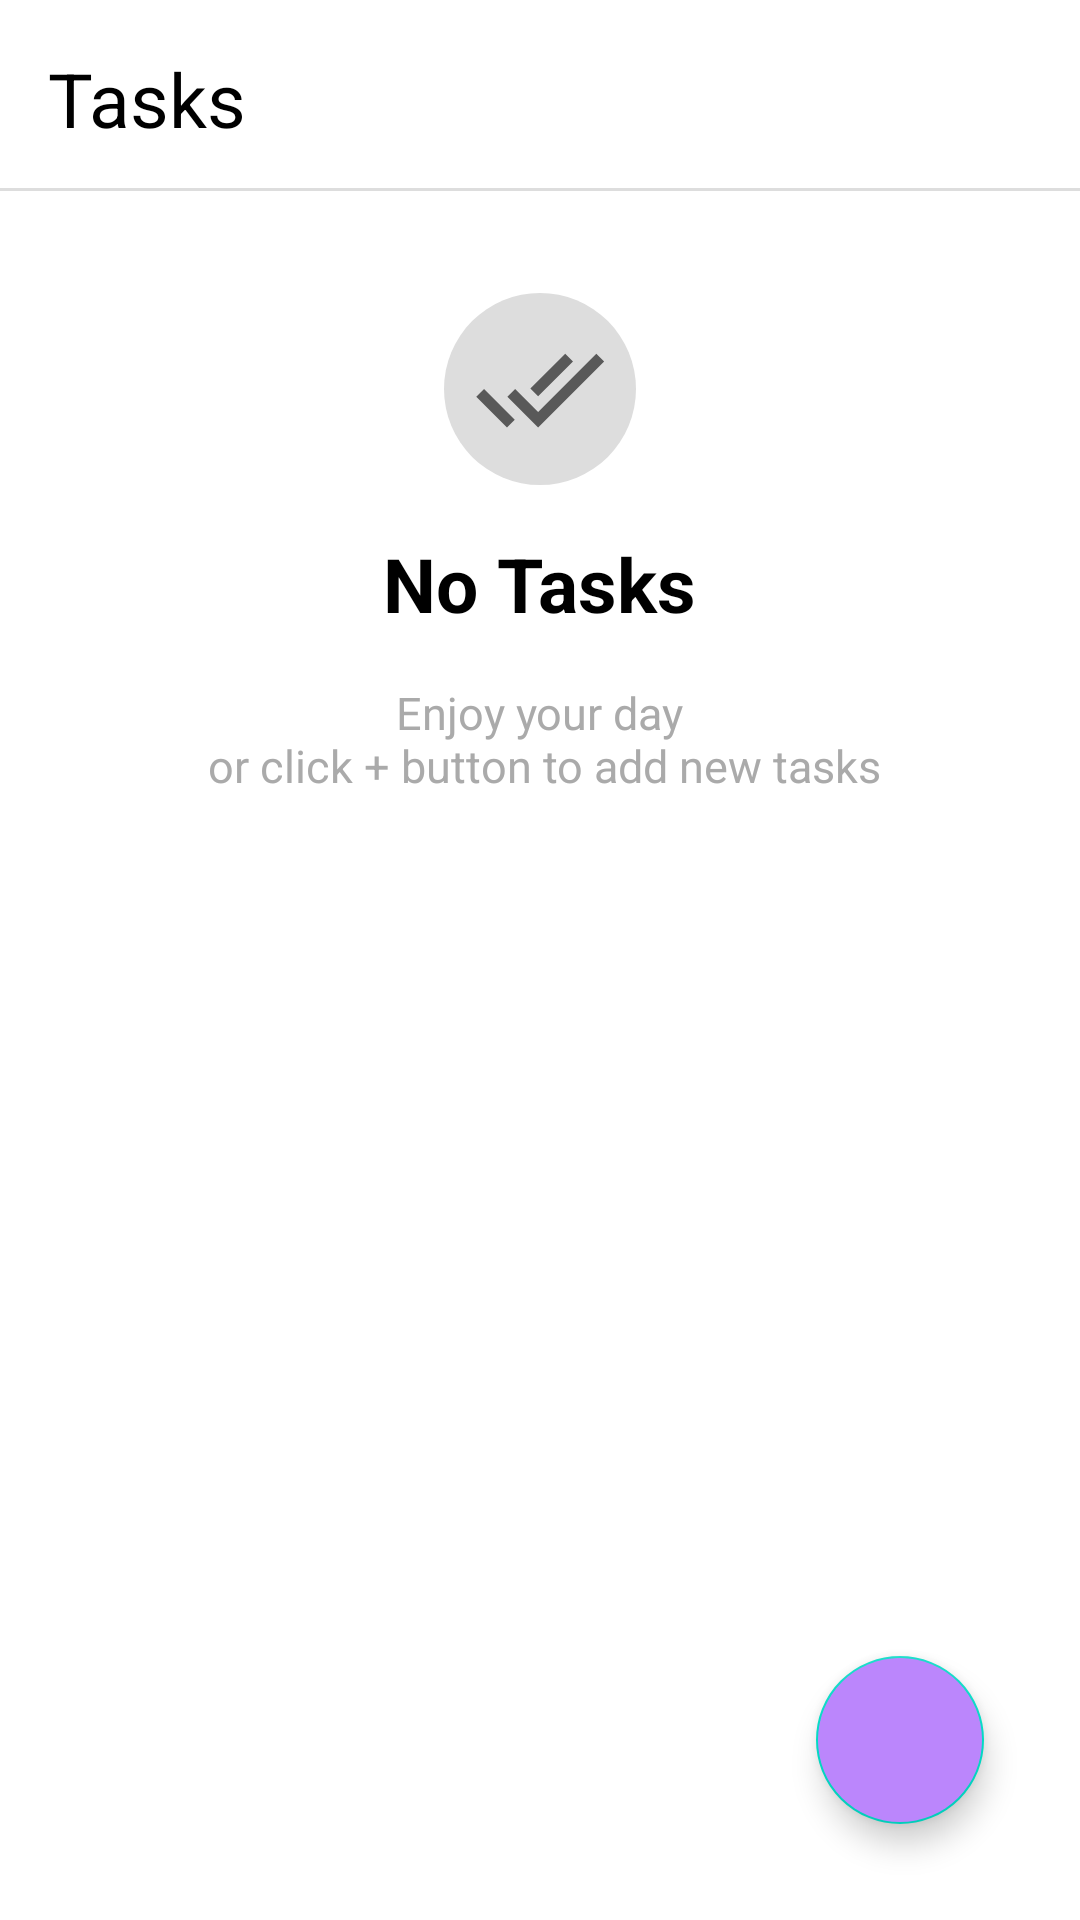

Icons on this 1080w x 1920h Android screen, each with its box as bbox=[x1, y1, x2, y2]:
done all: bbox=[444, 293, 636, 485]
